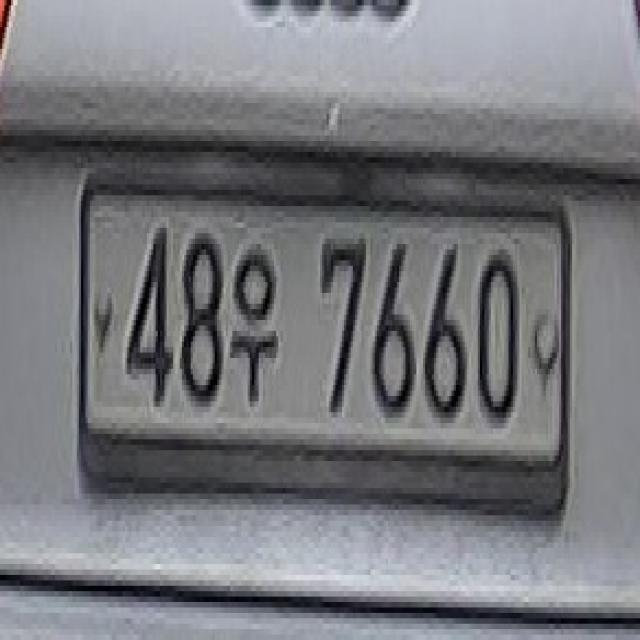0: (472, 217, 522, 434)
4: (116, 213, 176, 420)
6: (419, 212, 472, 433), (368, 212, 419, 429)
7: (314, 212, 368, 433)
8: (177, 215, 228, 419)
license_plate: (67, 141, 584, 545)
u: (228, 217, 282, 424)
